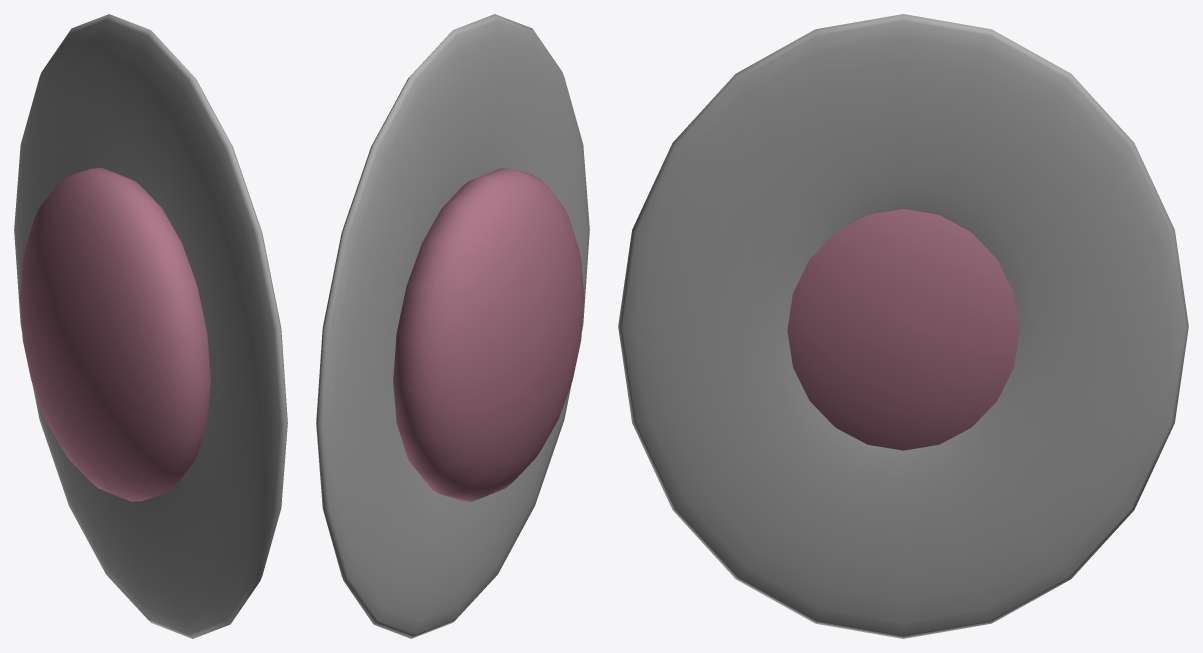
The model's file is boton3.fbx.
3 renders of one model, left to right at view 1: azimuth 30°, elevation 25°; view 2: azimuth 150°, elevation 25°; view 3: azimuth 270°, elevation 25°, orthographic. The views are drawn at different scales.
Visible parts, largest first — view 1: polySurface53; view 2: polySurface53; view 3: polySurface53.
Part boxes in pixels (x1,y1,x2,y2): polySurface53: (14, 14, 287, 638); polySurface53: (316, 14, 589, 638); polySurface53: (618, 14, 1188, 638).
Size of the model in its own units: 1.78 by 8.45 by 6.99.
